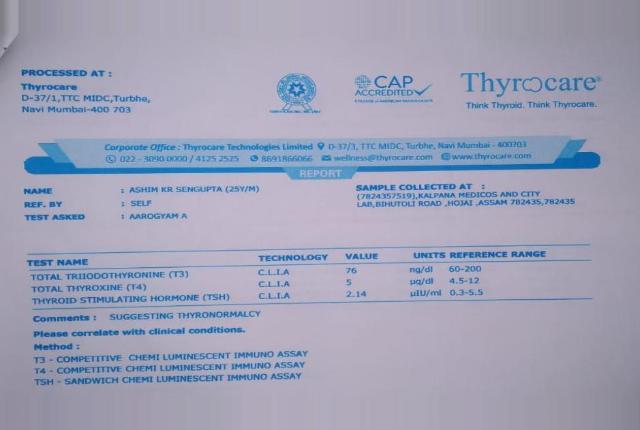Clinical_Conditions: (31, 341, 322, 398)
Name: (129, 184, 261, 196)
Ref_By: (129, 199, 157, 210)
Reference_Range: (449, 264, 486, 298)
Technology: (254, 265, 300, 307)
Test_Asked: (126, 212, 192, 220)
Test_Name: (28, 268, 239, 309)
Unit: (404, 262, 447, 302)
Value: (341, 264, 376, 301)
